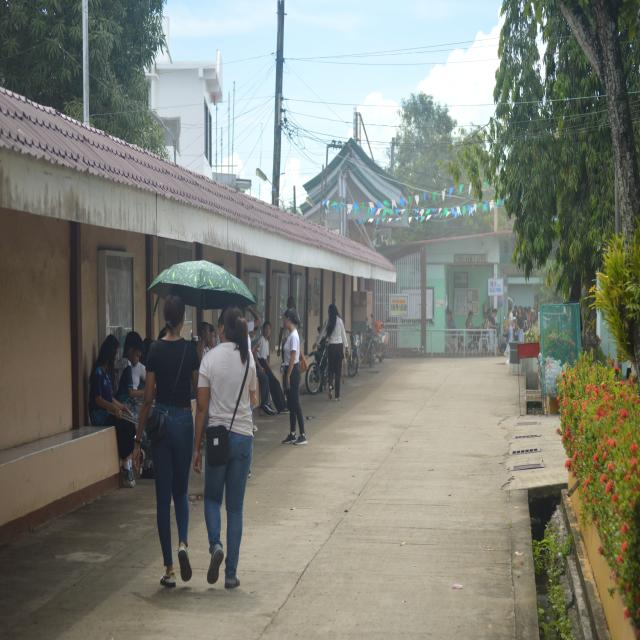person: (133, 295, 199, 587), (193, 307, 257, 588), (89, 340, 135, 487), (314, 304, 348, 400), (283, 309, 307, 444), (253, 321, 288, 413), (277, 297, 300, 357)
